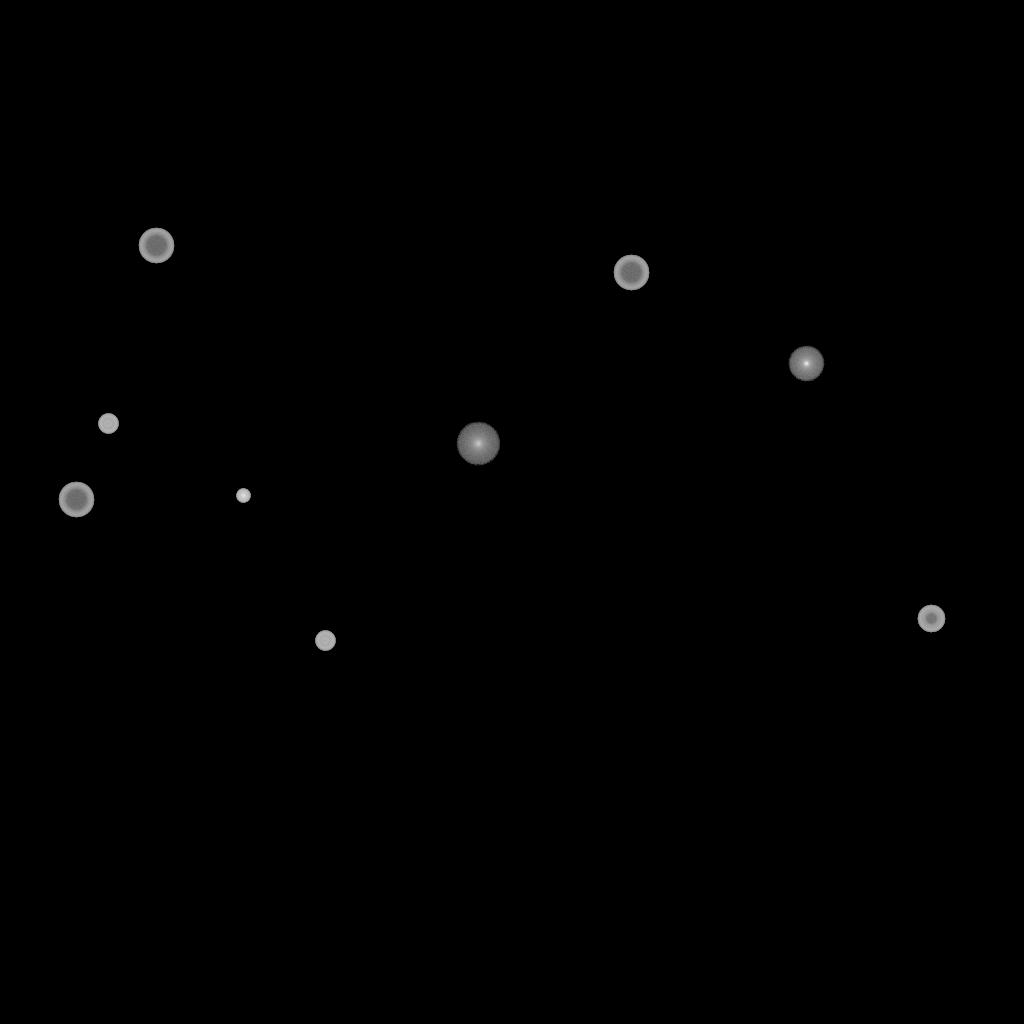depth:-30: (236, 489, 250, 503)
depth:-40: (315, 631, 335, 651), (98, 414, 118, 434)
depth:-50: (917, 605, 945, 633)
depth:-60: (613, 255, 649, 291), (138, 228, 174, 264), (58, 482, 94, 518)
depth:0: (788, 346, 824, 382)
depth:10: (456, 422, 500, 466)
